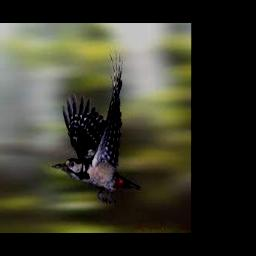Woodpecker: (52, 50, 141, 203)
